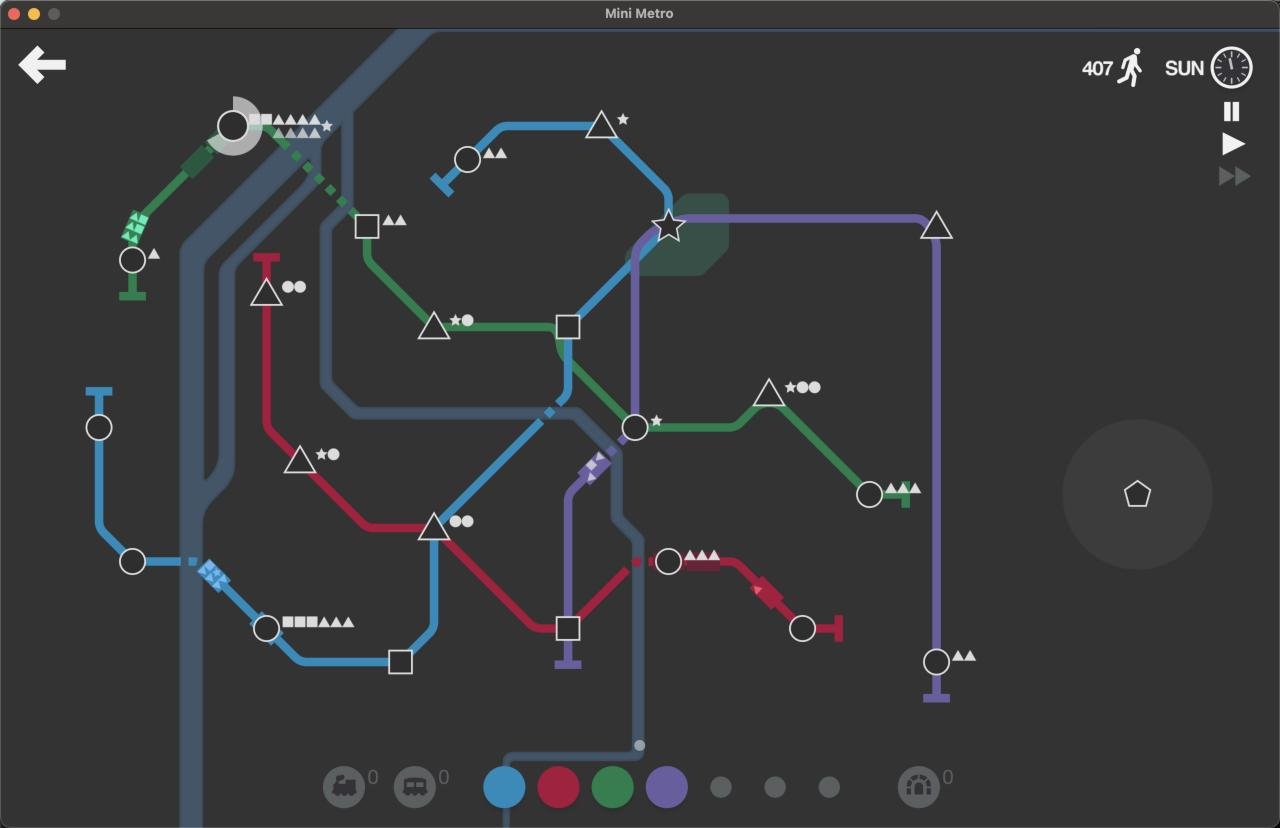CIRCLE: (216, 110, 248, 141), (252, 613, 281, 643), (788, 614, 817, 643), (654, 547, 683, 576), (621, 413, 650, 442), (118, 245, 147, 274), (855, 479, 883, 509), (922, 647, 950, 676), (119, 547, 146, 576), (85, 414, 113, 441), (454, 145, 481, 173)
PENTAGON: (1124, 479, 1152, 508)
SQUARE: (555, 313, 582, 340), (555, 615, 581, 642), (387, 648, 413, 675), (354, 213, 380, 239)
STAR: (650, 208, 686, 243), (616, 113, 629, 125)
TRIANGLE: (416, 510, 452, 542), (584, 108, 618, 140), (920, 209, 955, 240), (416, 310, 451, 341), (283, 444, 317, 475), (249, 276, 283, 307), (751, 377, 785, 407)
